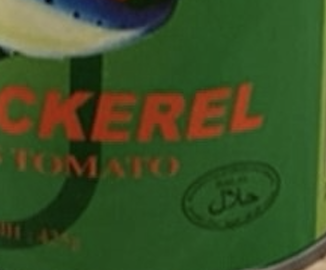halal: (206, 184, 261, 213)
